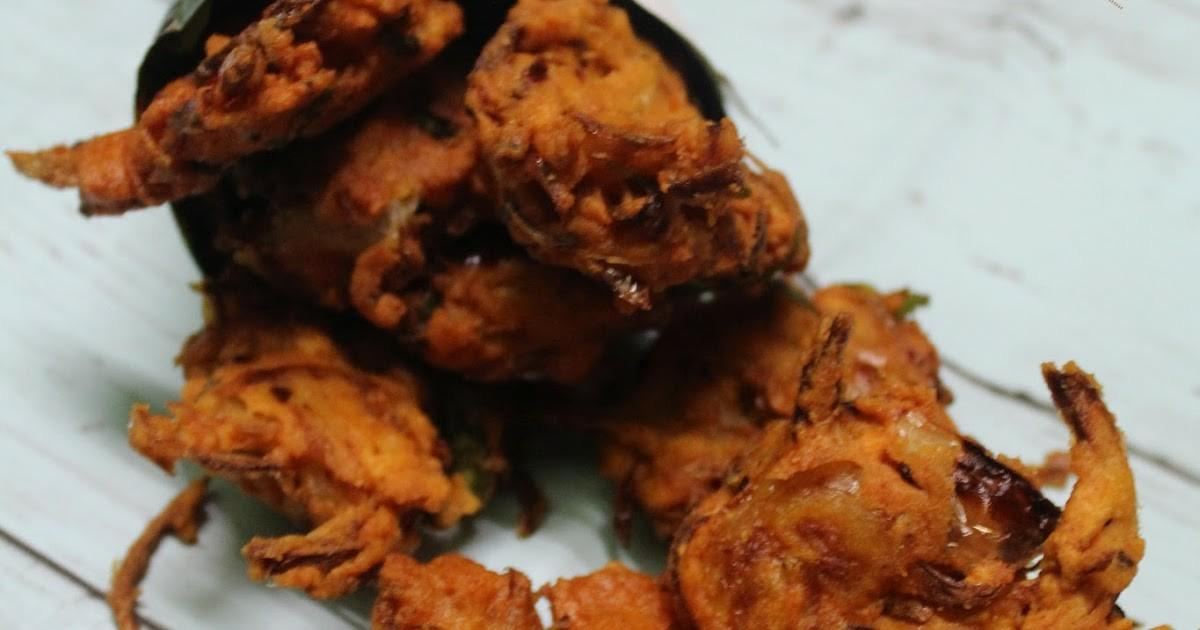OnionPakoda: (8, 0, 1148, 630)
